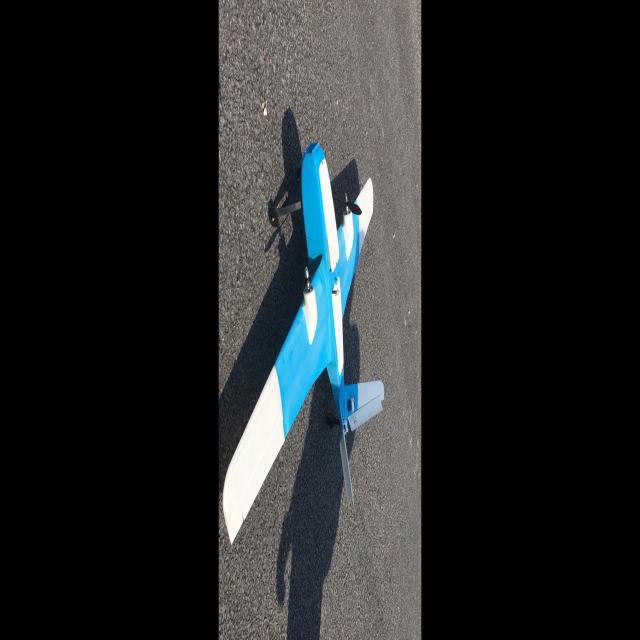iha: (222, 141, 387, 550)
